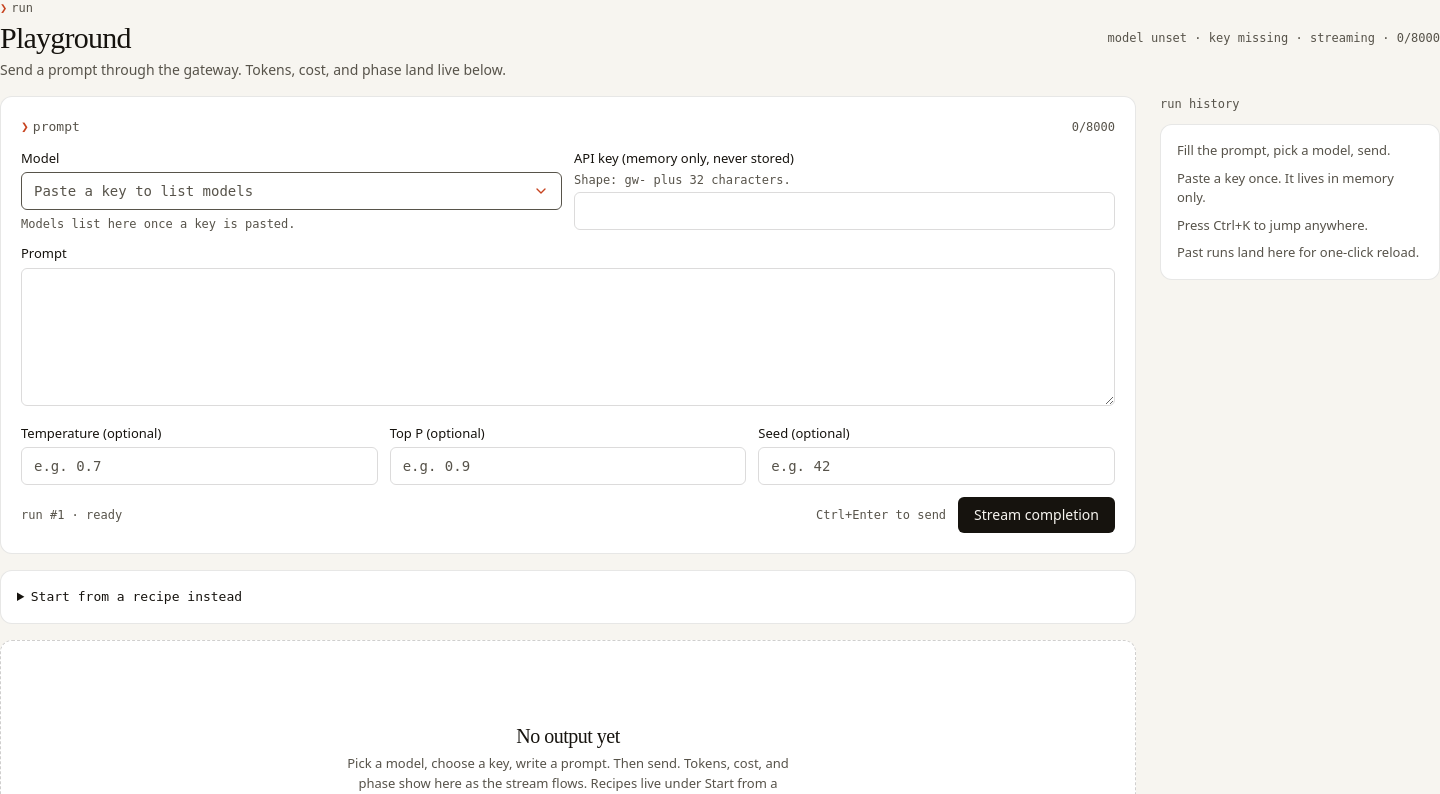
Test case: PlaygroundPage › validates the prompt form before streaming
The width and height of the screenshot is (1440, 794).
Click the button "Stream completion" at (1037, 515), box x1=958 y1=497 x2=1115 y2=533
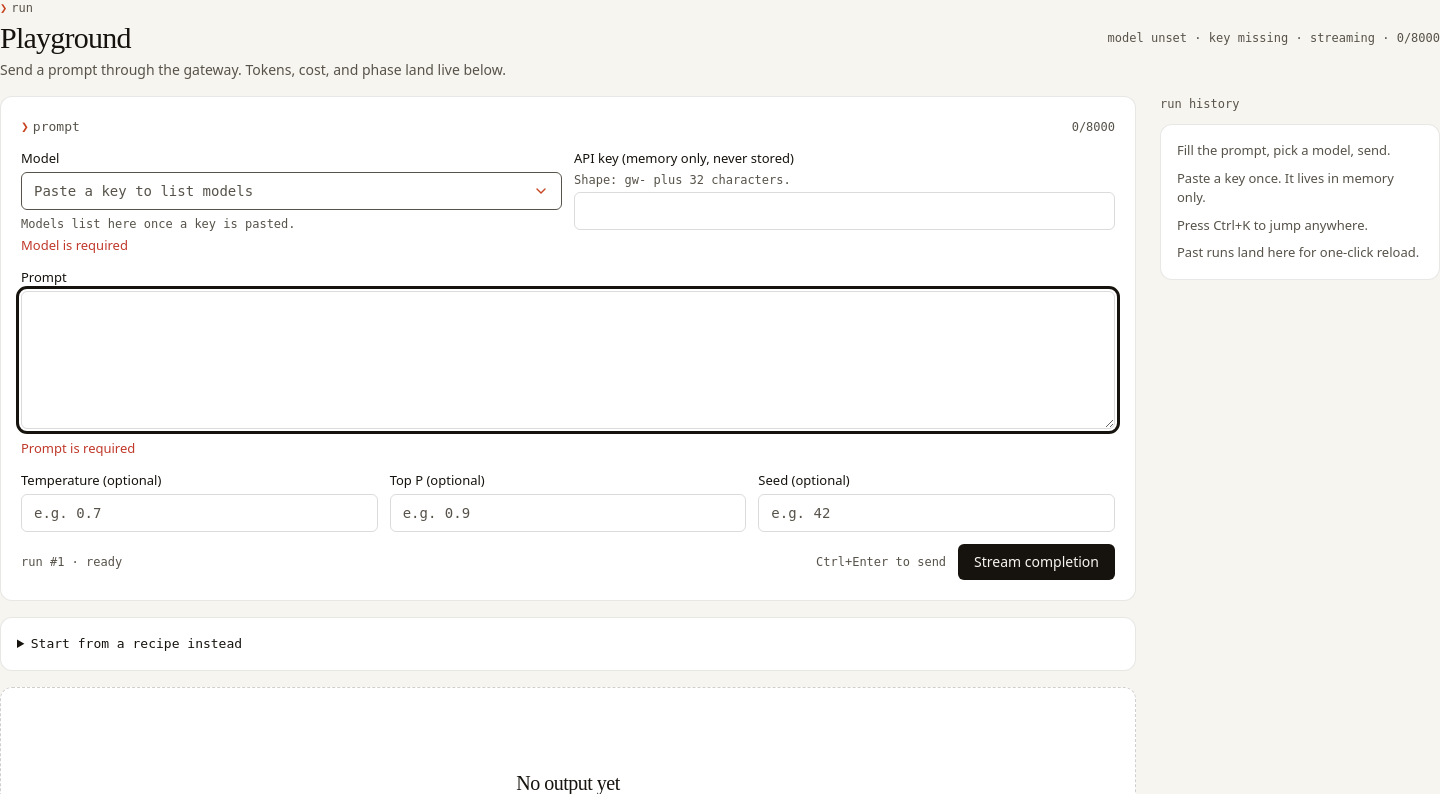
Expected: the text "Prompt is required" is shown, x1=21 y1=439 x2=135 y2=457
